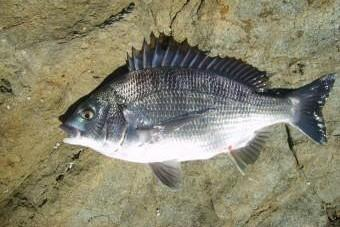fish: (58, 31, 336, 190)
